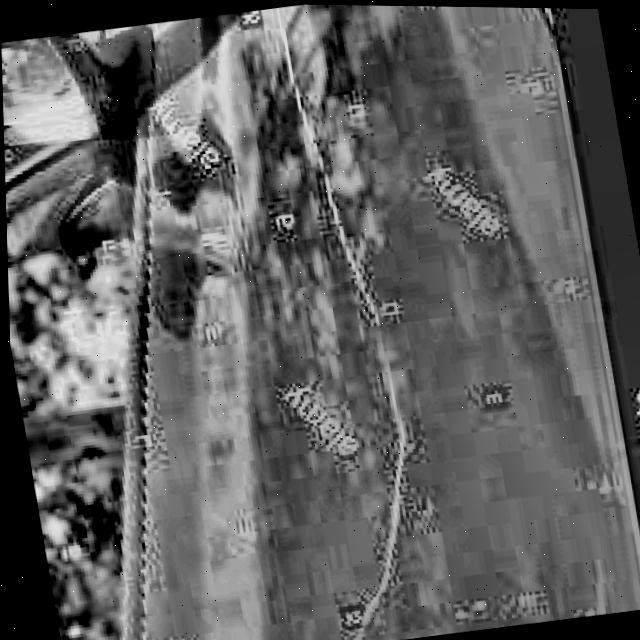door_scratch: (240, 4, 442, 634)
